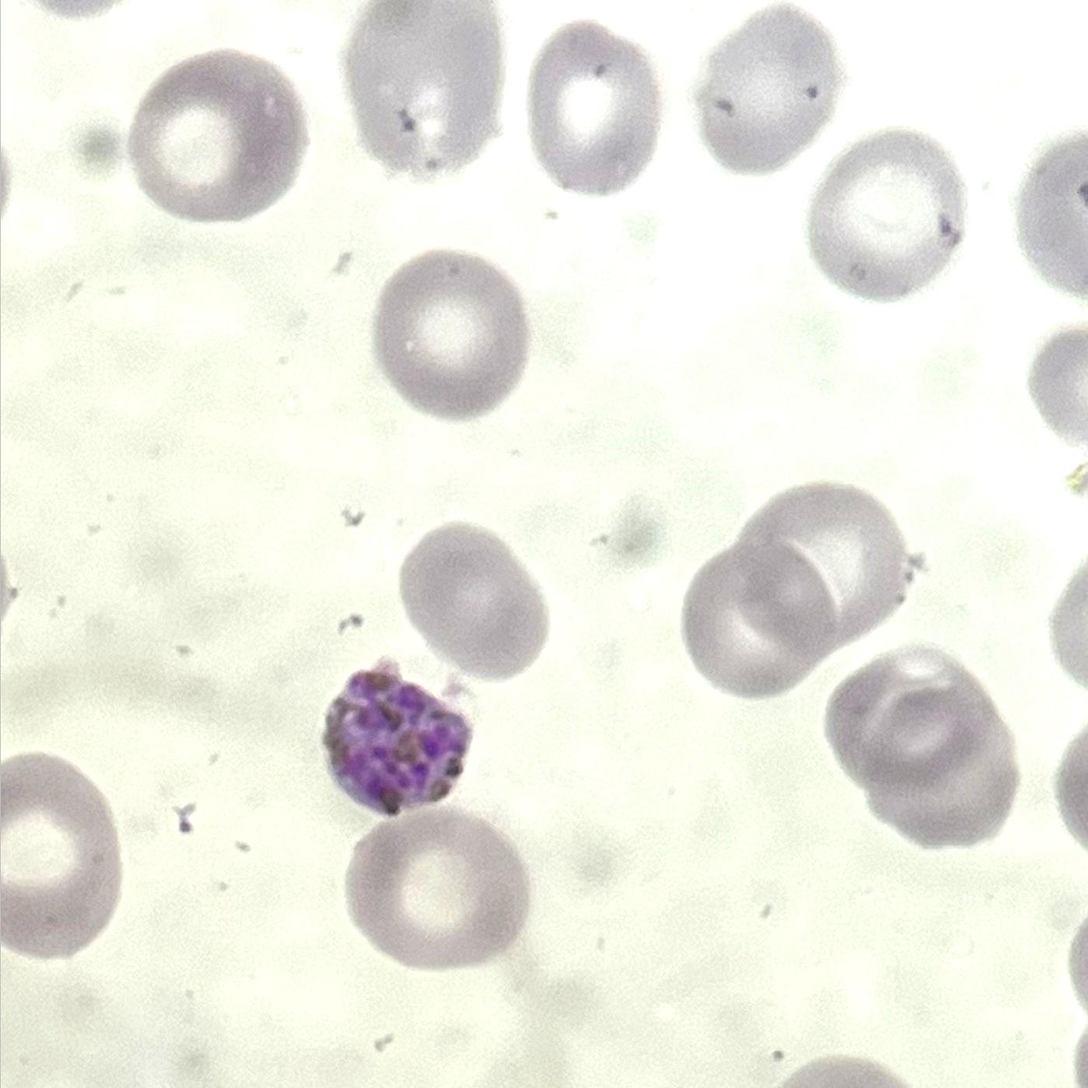Infected: (321, 662, 470, 824)
Uninfected: (119, 55, 311, 226), (347, 0, 508, 179), (809, 118, 957, 304), (347, 812, 520, 969), (736, 486, 907, 643), (0, 753, 123, 966), (368, 250, 512, 418), (861, 696, 1014, 854), (399, 517, 546, 681), (674, 540, 830, 689), (695, 1, 828, 174), (524, 19, 653, 186), (824, 649, 980, 781)
